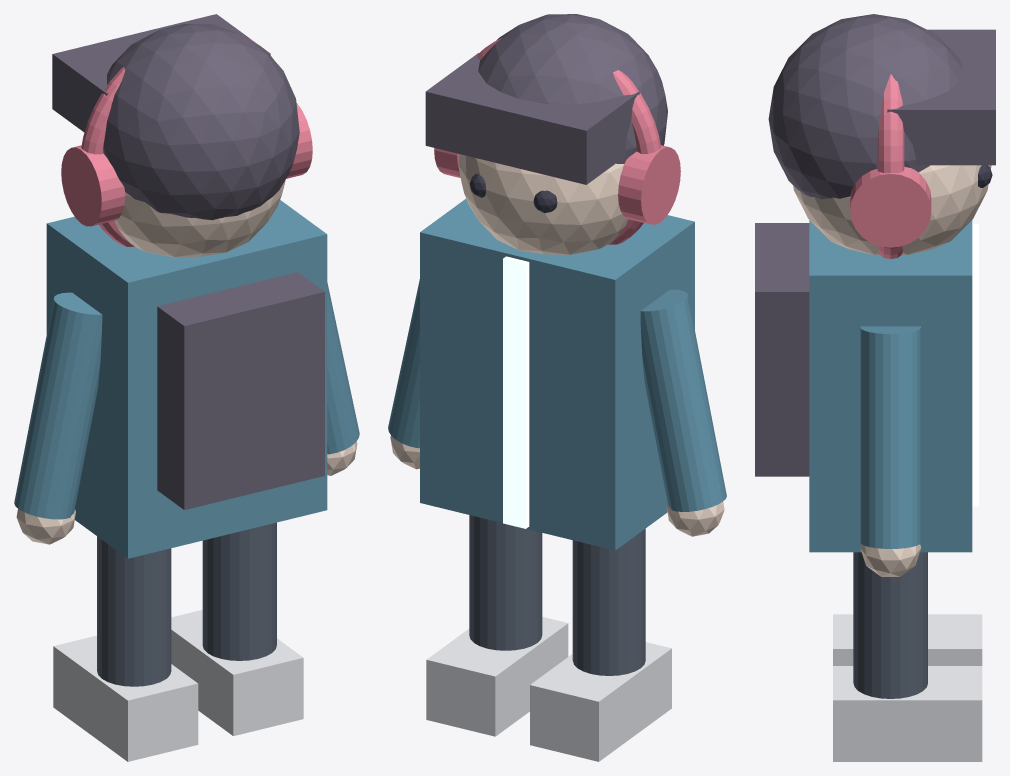
The model's file is avatar.glb.
3 renders of one model, left to right at view 1: azimuth 30°, elevation 25°; view 2: azimuth 150°, elevation 25°; view 3: azimuth 270°, elevation 25°, orthographic. The views are drawn at different scales.
Parts seen in each view (by area): view 1: Cube.002, Cube.004, Icosphere.003, Cylinder.002, Cube, Cylinder, Cylinder.001, Cube.001, Icosphere.002, Cube.005, Cylinder.004, Cylinder.003 (+4 smaller); view 2: Cube.002, Cube.005, Icosphere.003, Cylinder.002, Cube, Icosphere.002, Cube.001, Cylinder, Cylinder.001, Cube.003, Cylinder.004, Cylinder.003 (+3 smaller); view 3: Cube.002, Icosphere.003, Cube.004, Cylinder.003, Cube.001, Cylinder.001, Cube.005, Icosphere.002, Cylinder.005, Cube, Torus, Cube.003 (+1 smaller).
Part boxes in pixels (<box>): Cube.002: <box>46,200,327,558</box>; Cube.004: <box>157,272,324,509</box>; Icosphere.003: <box>103,24,299,220</box>; Cylinder.002: <box>14,292,102,519</box>; Cube: <box>53,635,198,761</box>; Cylinder: <box>97,536,171,686</box>; Cylinder.001: <box>202,522,276,660</box>; Cube.001: <box>171,610,303,735</box>; Icosphere.002: <box>114,180,285,257</box>; Cube.005: <box>52,14,270,132</box>; Cylinder.004: <box>61,145,125,226</box>; Cylinder.003: <box>327,282,359,454</box>; Cube.002: <box>420,198,694,550</box>; Cube.005: <box>425,53,639,184</box>; Icosphere.003: <box>478,14,667,163</box>; Cylinder.002: <box>640,289,726,511</box>; Cube: <box>530,642,671,761</box>; Icosphere.002: <box>458,154,628,254</box>; Cube.001: <box>426,617,568,736</box>; Cylinder: <box>572,529,645,675</box>; Cylinder.001: <box>469,515,542,650</box>; Cube.003: <box>503,256,529,528</box>; Cylinder.004: <box>618,145,680,224</box>; Cylinder.003: <box>388,279,419,448</box>; Cube.002: <box>809,220,972,552</box>; Icosphere.003: <box>768,14,963,199</box>; Cube.004: <box>755,223,809,476</box>; Cylinder.003: <box>860,326,921,548</box>; Cube.001: <box>833,666,982,761</box>; Cylinder.001: <box>853,552,927,698</box>; Cube.005: <box>887,29,995,165</box>; Icosphere.002: <box>793,165,991,254</box>; Cylinder.005: <box>850,166,931,247</box>; Cube: <box>833,614,982,665</box>; Torus: <box>877,74,904,258</box>; Cube.003: <box>972,224,978,506</box>.
Size of the model in its own units: 1.15 by 2.26 by 0.71.
